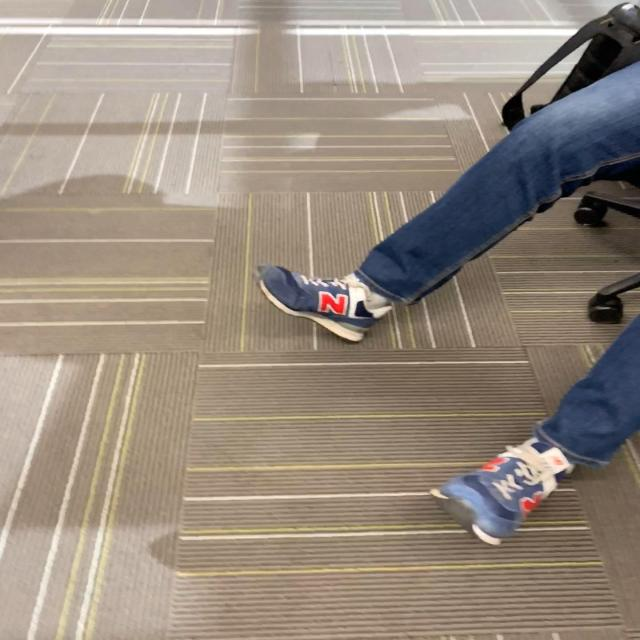shoe: (443, 433, 574, 545), (256, 265, 396, 343)
